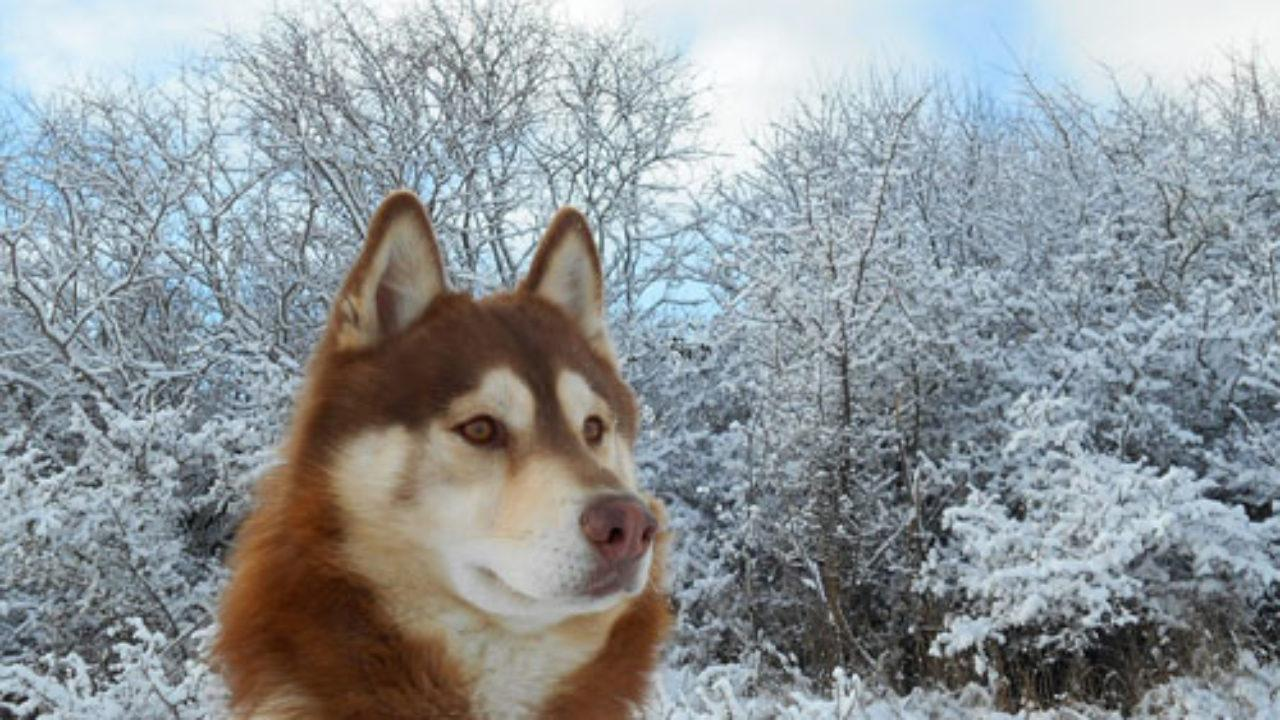husky: (240, 195, 695, 716)
